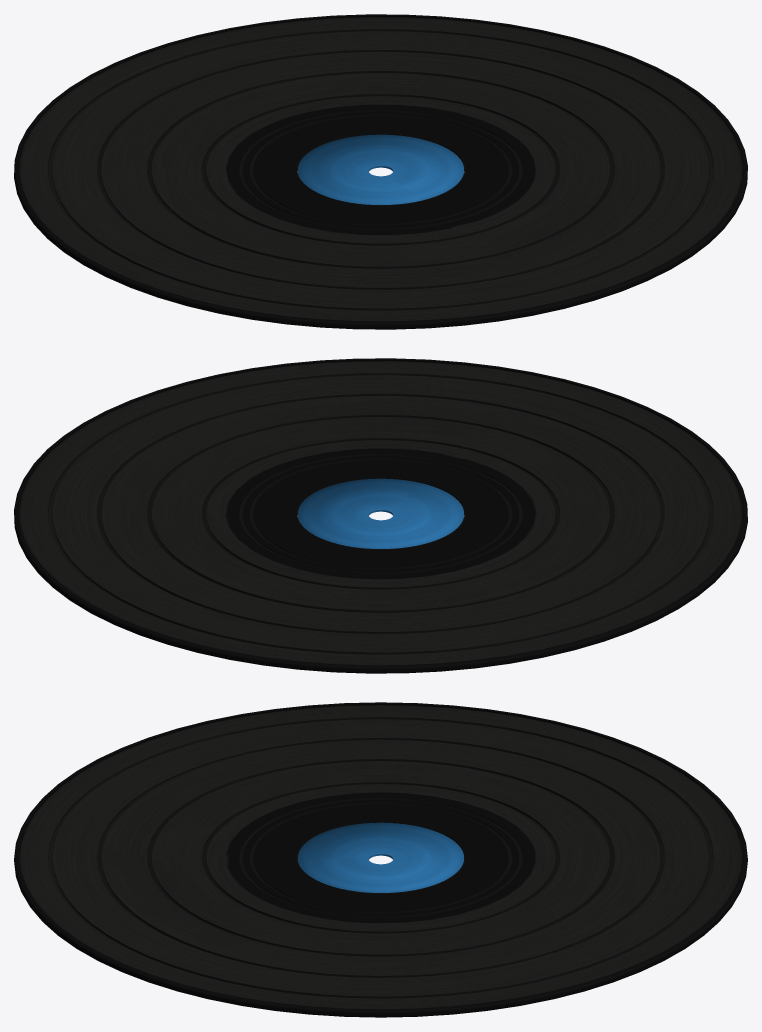
File: cdBlu.fbx
The picture shows the model from 3 angles, top to bottom: view 1: azimuth 30°, elevation 25°; view 2: azimuth 150°, elevation 25°; view 3: azimuth 270°, elevation 25°; orthographic projection.
Visible parts, largest first — view 1: disco; view 2: disco; view 3: disco.
Part boxes in pixels (x1,y1,x2,y2): disco: [14, 14, 747, 329]; disco: [14, 358, 747, 673]; disco: [14, 702, 747, 1017].
Bounding box in the file's own units: 26.71 × 0.28 × 26.71.
